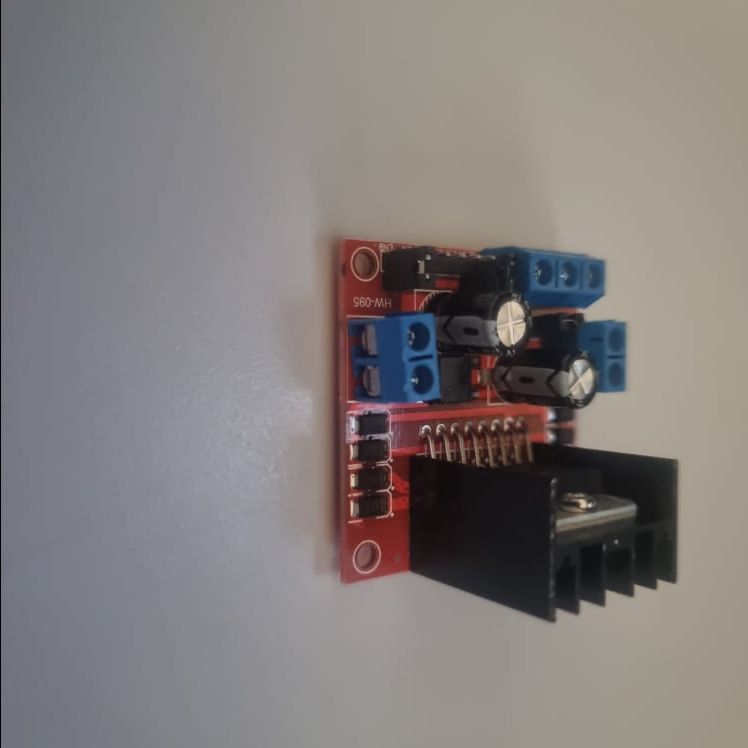MOTOR: (338, 241, 679, 623)
